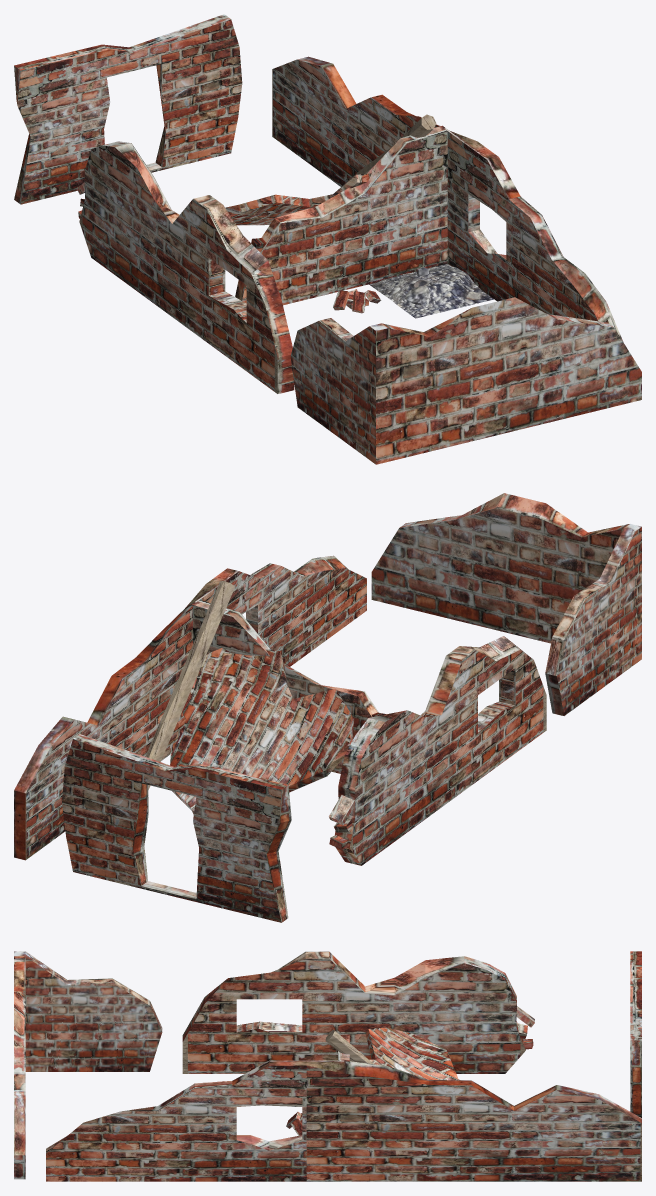
Rendered from ruined_building.glb.
The picture shows the model from 3 angles, top to bottom: view 1: azimuth 30°, elevation 25°; view 2: azimuth 150°, elevation 25°; view 3: azimuth 270°, elevation 25°; orthographic projection. The views are drawn at different scales.
Parts seen in each view (by area): view 1: Cube; view 2: Cube; view 3: Cube.
Boxes of the visible parts, x1=… form: Cube: x1=14, y1=14, x2=641, y2=464; Cube: x1=14, y1=493, x2=641, y2=922; Cube: x1=14, y1=951, x2=641, y2=1181.
Size of the model in its own units: 5.27 by 2.95 by 12.12.
Materials: 1 (1 with a texture image).
